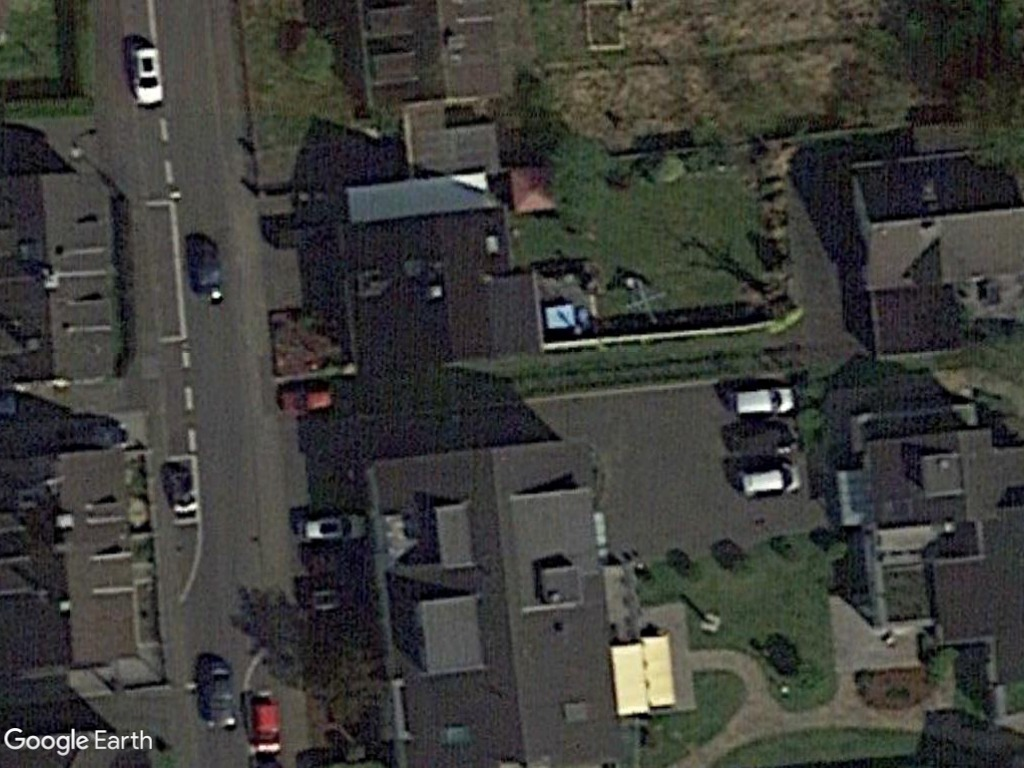car: (289, 511, 372, 550), (126, 40, 170, 111)
van: (731, 454, 811, 504), (729, 376, 799, 422)
